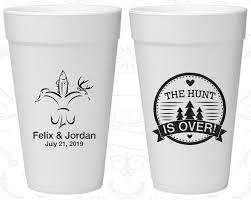Plastic cup: (2, 3, 251, 201)
